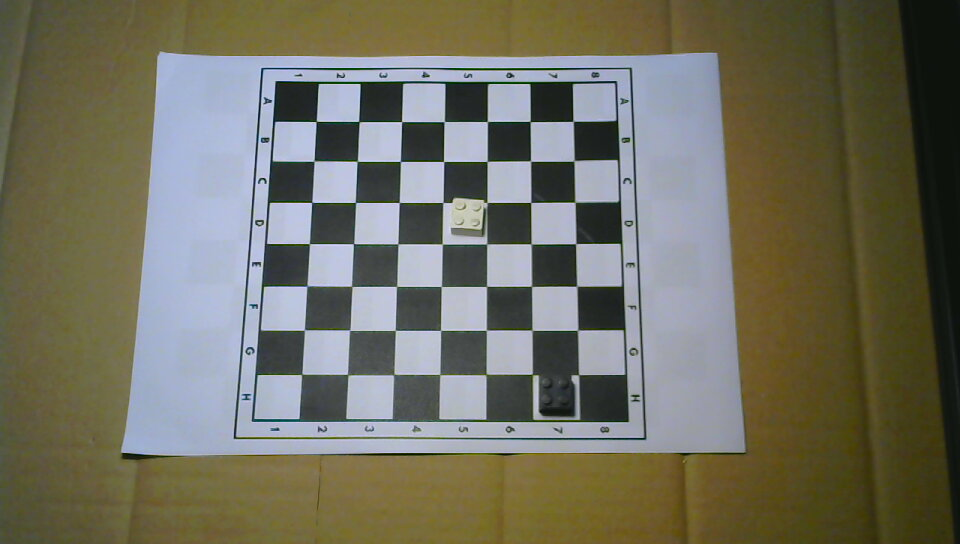bp: (535, 370, 575, 417)
wp: (448, 195, 486, 238)
